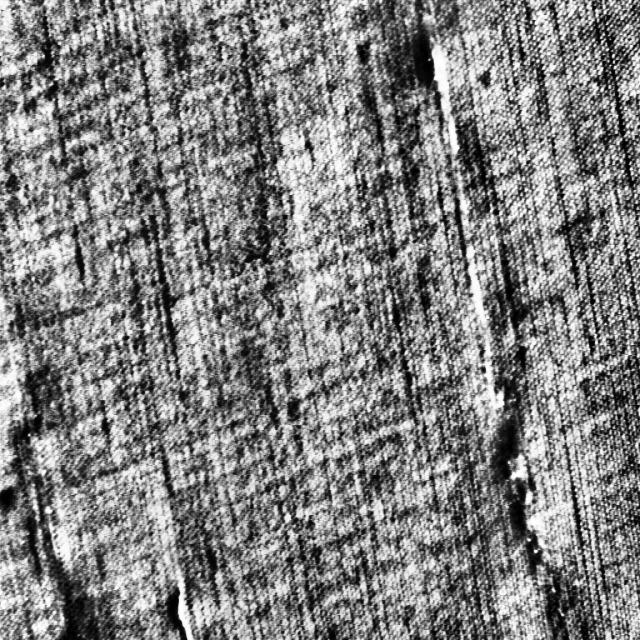Stitch: (483, 234, 581, 638), (397, 0, 465, 161), (162, 575, 206, 639)
